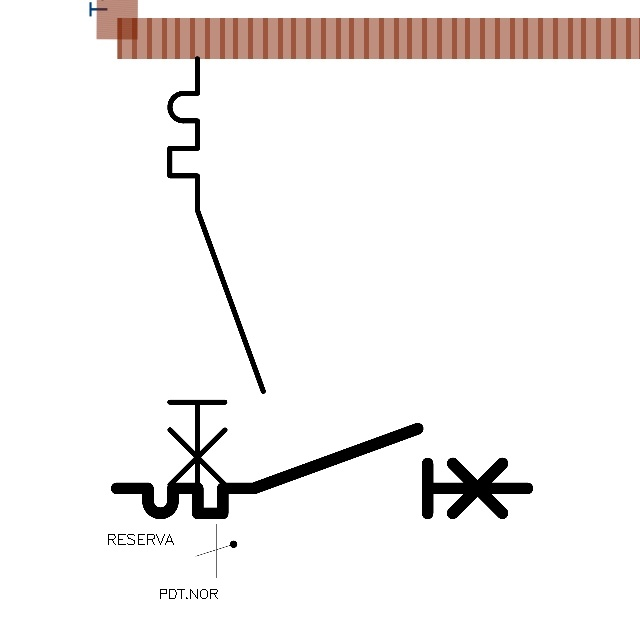interruptor_termomagnetico: (158, 47, 275, 524), (106, 418, 538, 524)
